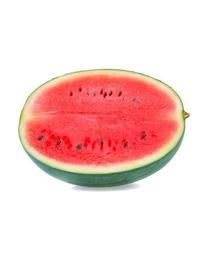watermelon: (17, 68, 188, 191)
